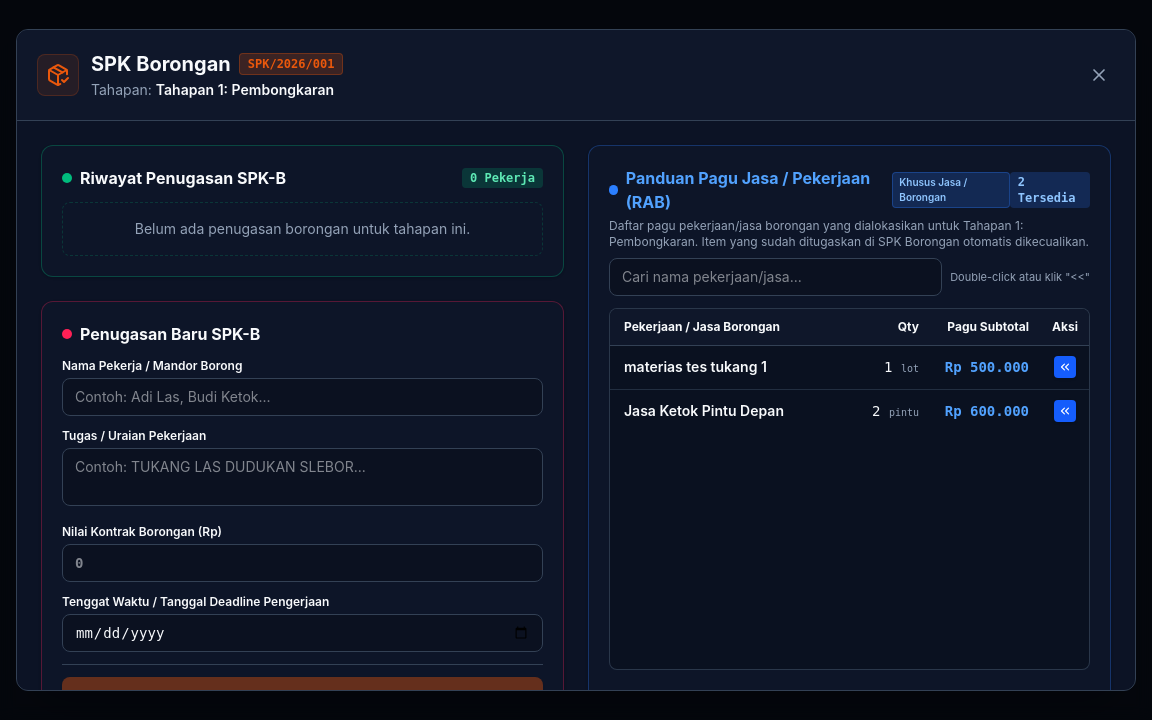
Test: Component: SpkBoronganPanel (Strict LABOR Filter) › auto-fills "Tugas / Uraian Pekerjaan" and "Nilai Kontrak Borongan (Rp)" when clicking "<<"
Expected: the text "materias tes tukang 1" is shown, [624,357,767,377]
Expected: the text "Jasa Ketok Pintu Depan" is shown, [624,401,784,421]
What coordinates should you click on to do the following:
click the button titled "Pindahkan ke form penugasan (<<)" in the row of "materias tes tukang 1"
I would click on:
 (1065, 367)
Its box is [1054,356,1076,378].
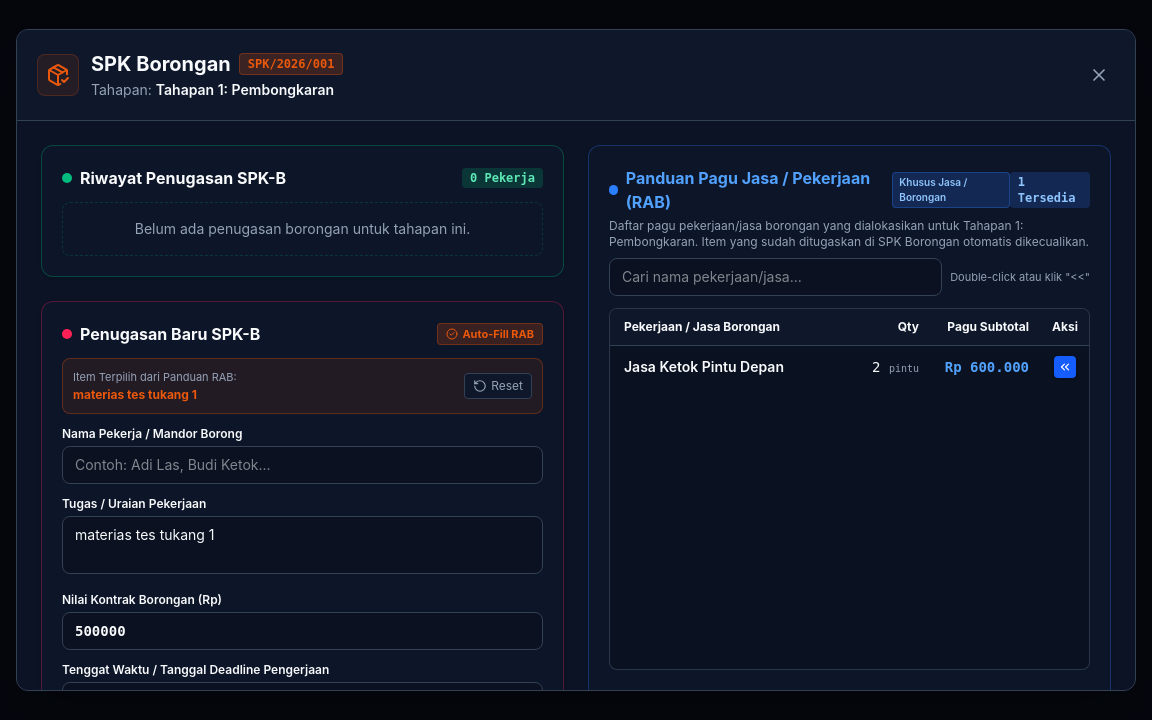
Now the text box with placeholder "Contoh: TUKANG LAS DUDUKAN SLEBOR..." holds "materias tes tukang 1", box [62,516,543,574]
Now the number field with placeholder "0" holds "500000", box [62,612,543,650]
Now the text "1 Tersedia" is shown, box [1010,172,1090,208]
Click Reset
What coordinates should you click on to do the following:
click the button titled "Batal transfer & kembalikan item ke Panduan Pagu Jasa / Pekerjaan"
I would click on:
 (498, 386)
Its box is [464,373,532,399].
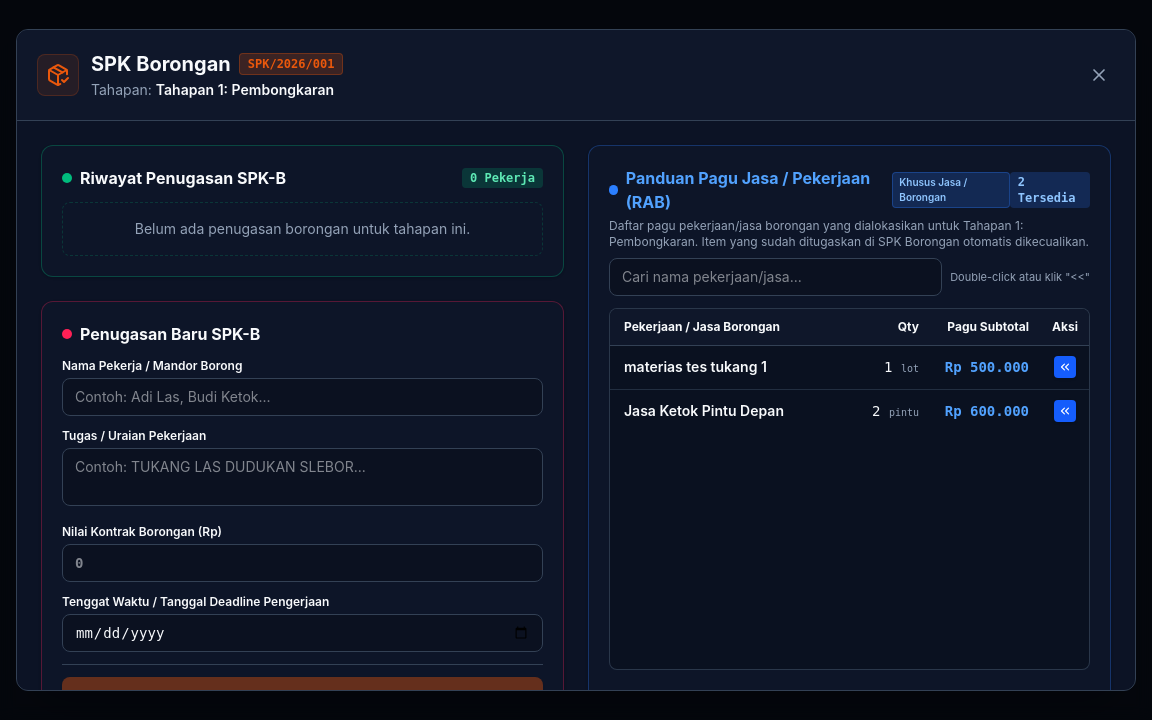
Now the text box with placeholder "Contoh: TUKANG LAS DUDUKAN SLEBOR..." is empty, box [62,448,543,506]
Now the number field with placeholder "0" is empty, box [62,544,543,582]
Now the text "2 Tersedia" is shown, box [1010,172,1090,208]
